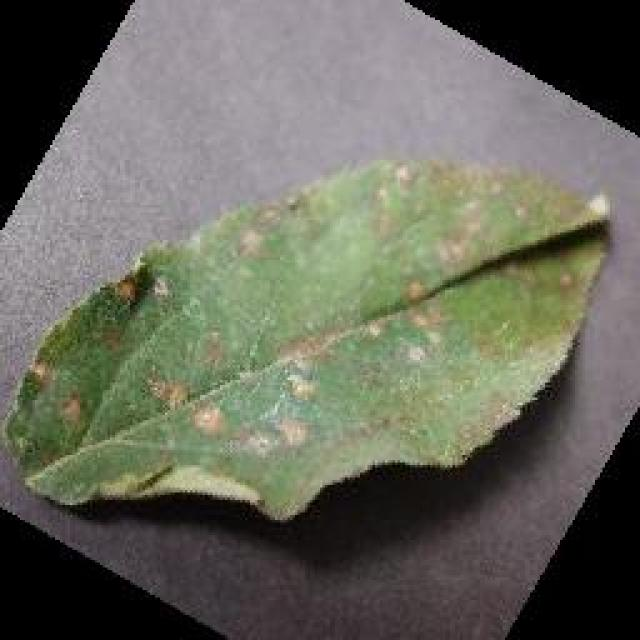apple rust disease: (0, 152, 612, 522)
